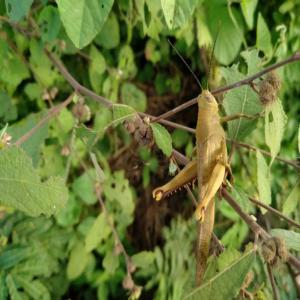locust: (157, 38, 261, 300)
